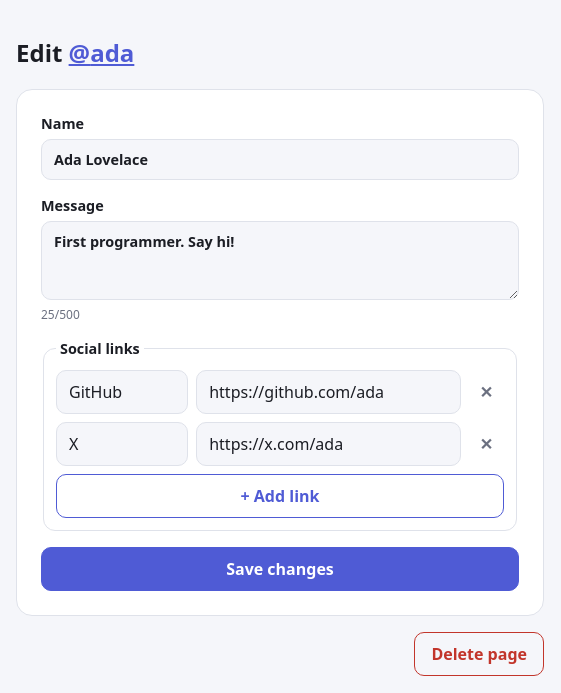
Test case: EditPage › prefills the form and saves with the stored token
Expected: the field named "Link 1 URL" holds "https://github.com/ada", left=196, top=370, right=461, bottom=414
Replace the text in the field with placeholder "Your name" with "Ada L." at {"x": 280, "y": 159}, box left=41, top=139, right=519, bottom=180
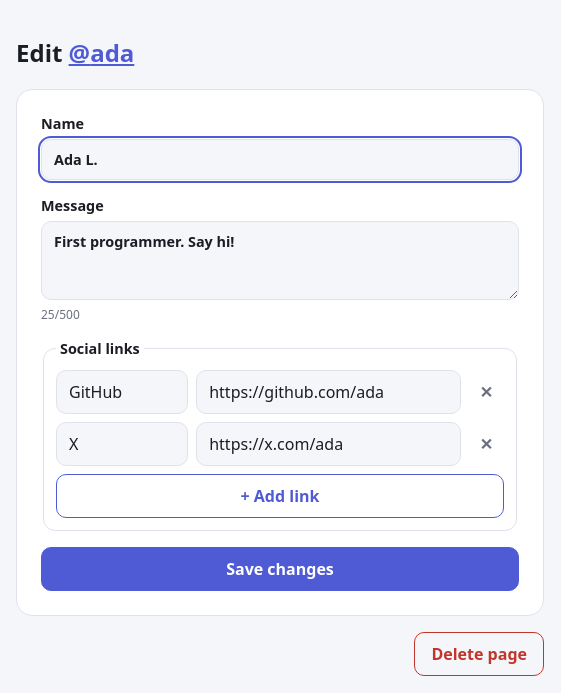
Click the button named "Remove link 2" at {"x": 486, "y": 444}, box left=469, top=422, right=504, bottom=466
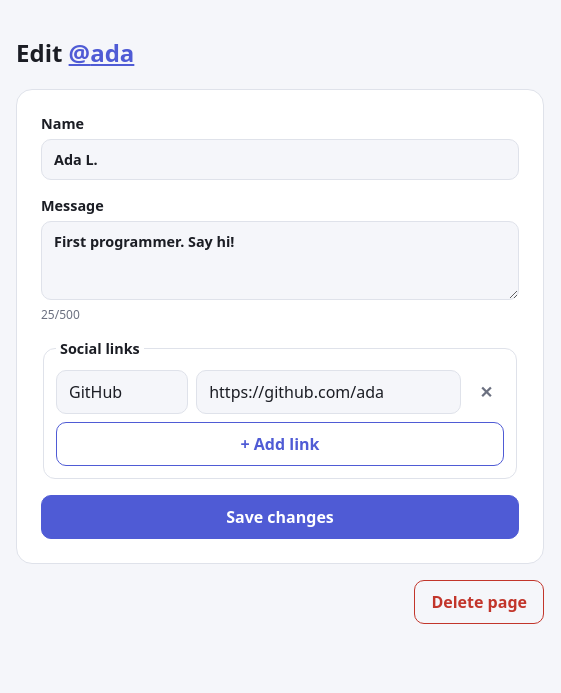
Click the button "Save changes" at {"x": 280, "y": 517}, box left=41, top=495, right=519, bottom=539
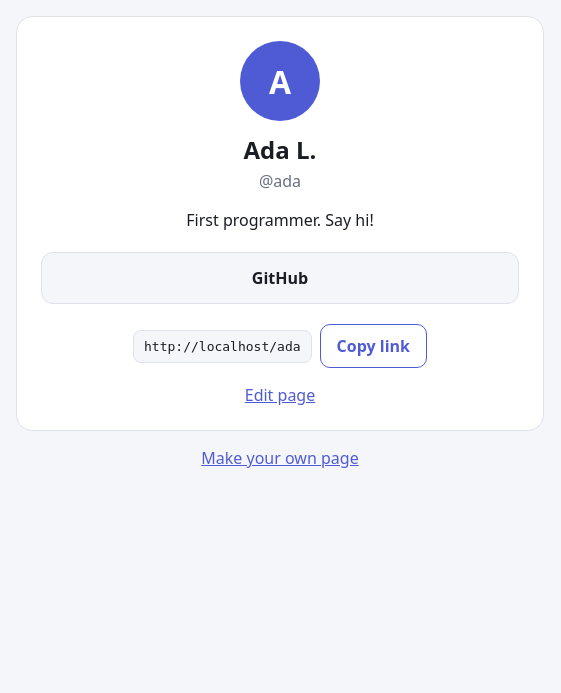
Expected: the heading "Ada L." is shown, left=244, top=133, right=316, bottom=166
